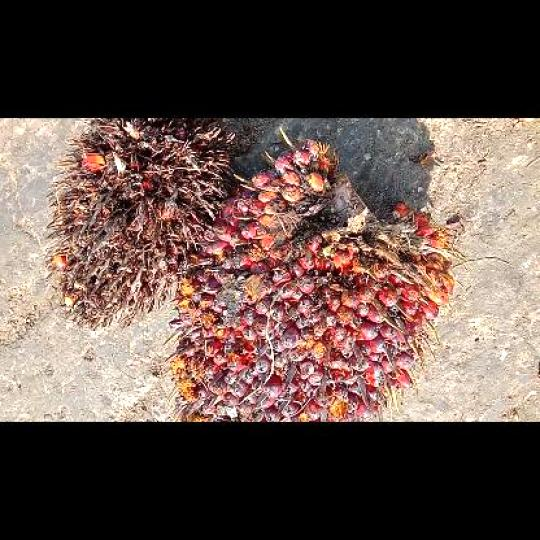masak: (164, 128, 462, 420)
terlalu masak: (48, 118, 235, 326)
